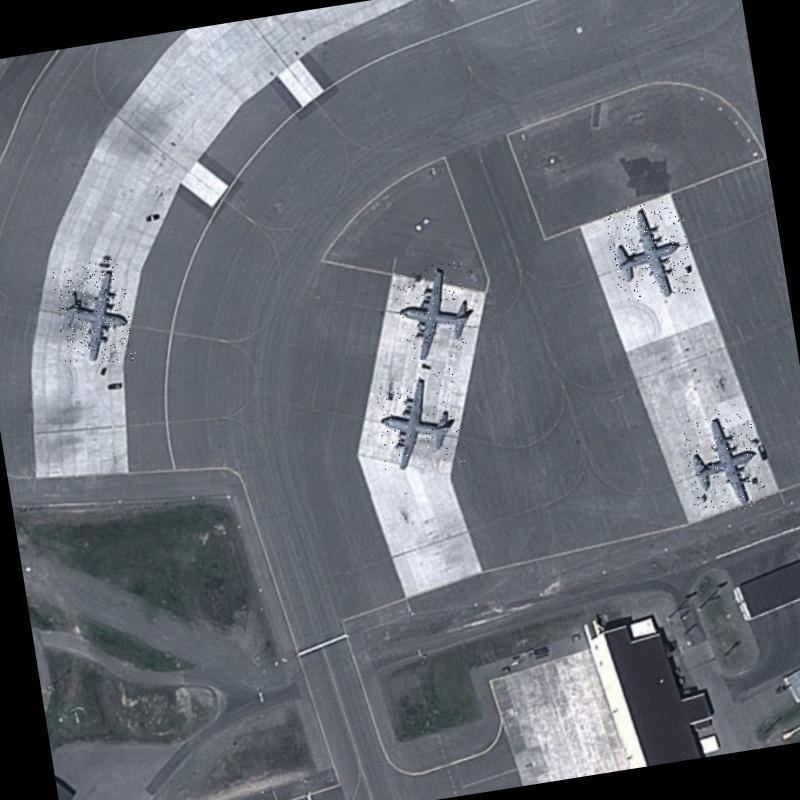A2: (368, 368, 466, 474), (679, 401, 769, 516), (50, 256, 136, 371), (603, 197, 695, 304), (390, 259, 480, 364)
